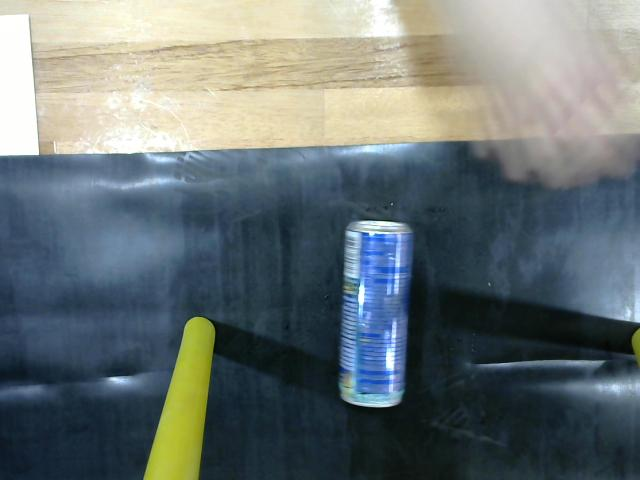can: (336, 216, 413, 413)
